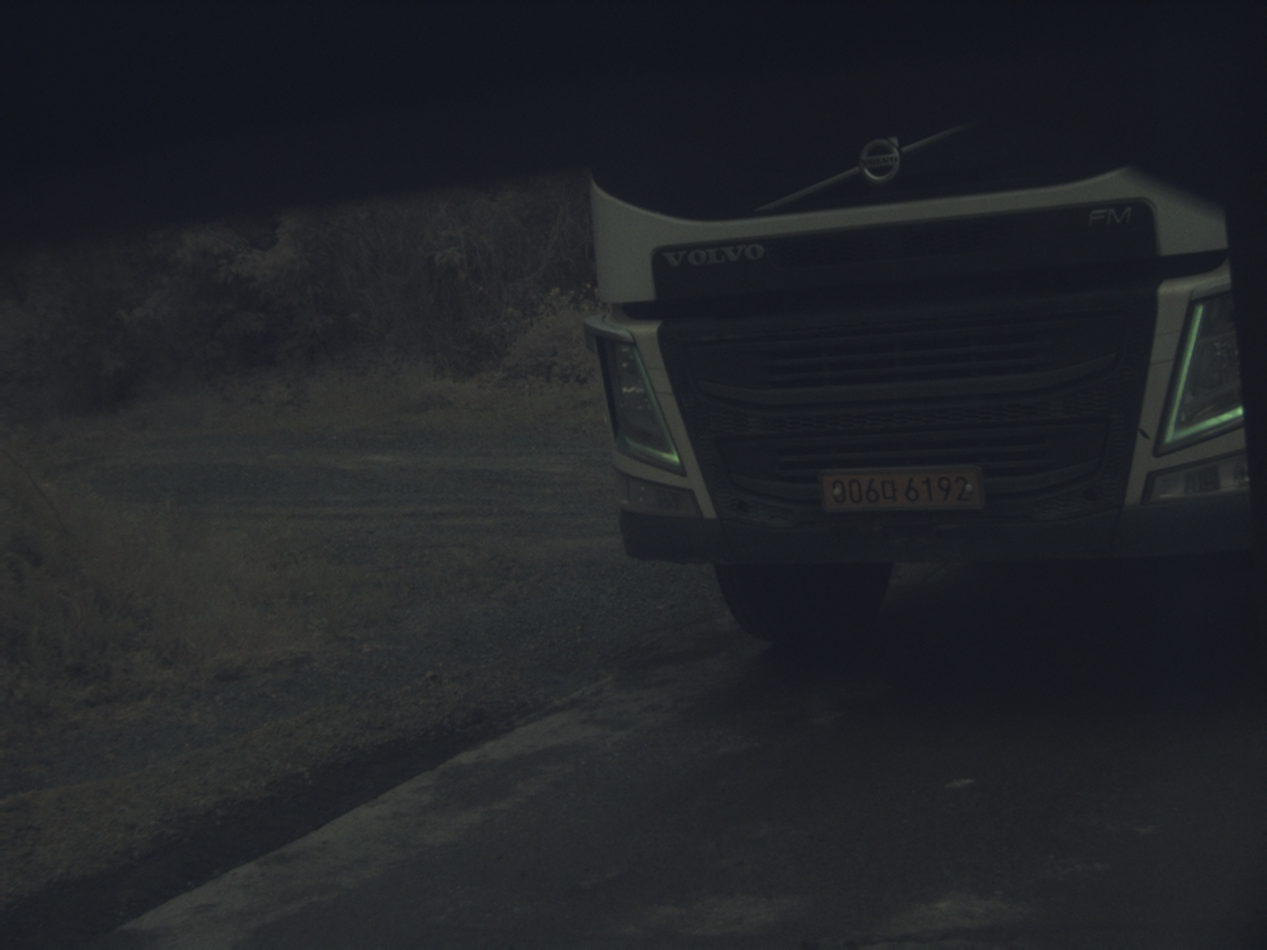license_plate: (822, 468, 982, 510)
truck: (586, 124, 1250, 644)
